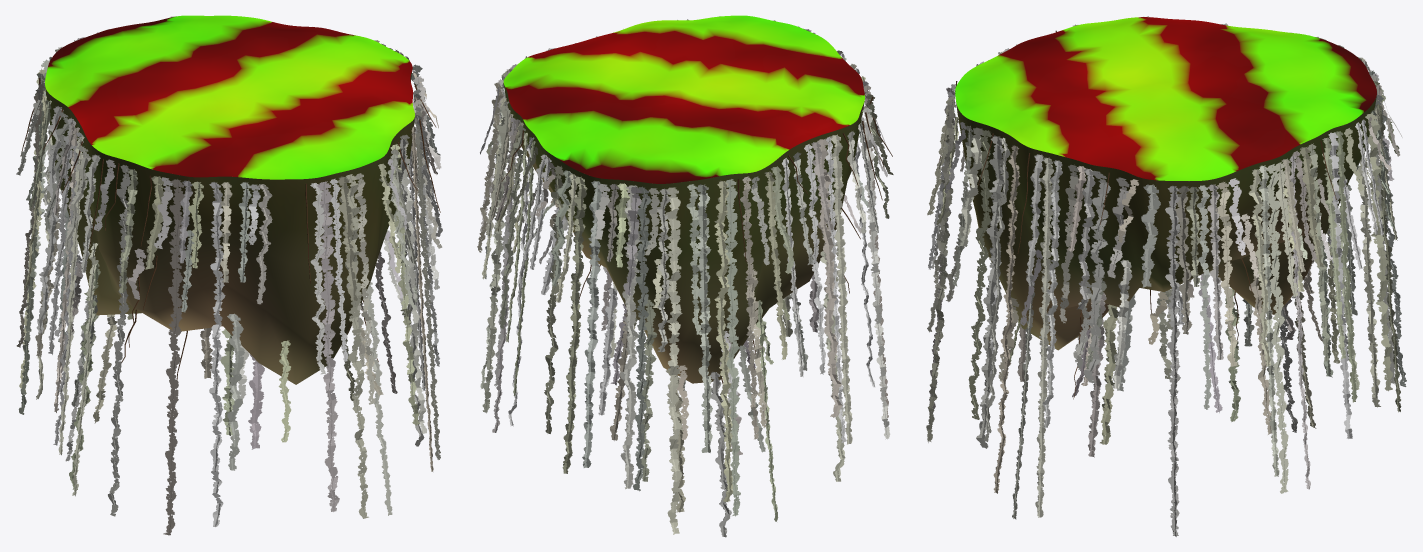
File: SM_H18_Floater02.fbx
3 renders of one model, left to right at view 1: azimuth 30°, elevation 25°; view 2: azimuth 150°, elevation 25°; view 3: azimuth 270°, elevation 25°, orthographic. The views are drawn at different scales.
Parts seen in each view (by area): view 1: SM_H18_Floater02, SM_H18_Floater02_Ivy; view 2: SM_H18_Floater02_Ivy, SM_H18_Floater02; view 3: SM_H18_Floater02_Ivy, SM_H18_Floater02.
Boxes of the visible parts, left/top/right/bottom form: SM_H18_Floater02: left=45, top=15, right=414, bottom=384; SM_H18_Floater02_Ivy: left=16, top=16, right=442, bottom=535; SM_H18_Floater02_Ivy: left=477, top=16, right=893, bottom=537; SM_H18_Floater02: left=503, top=15, right=864, bottom=383; SM_H18_Floater02_Ivy: left=926, top=16, right=1406, bottom=536; SM_H18_Floater02: left=955, top=17, right=1376, bottom=350.
Size of the model in its own units: 33.45 by 33.71 by 36.93.
